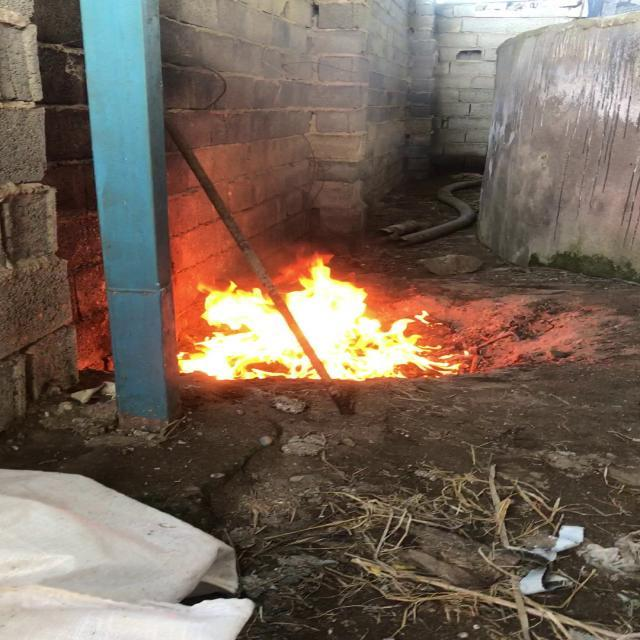Fire: (162, 270, 478, 402)
